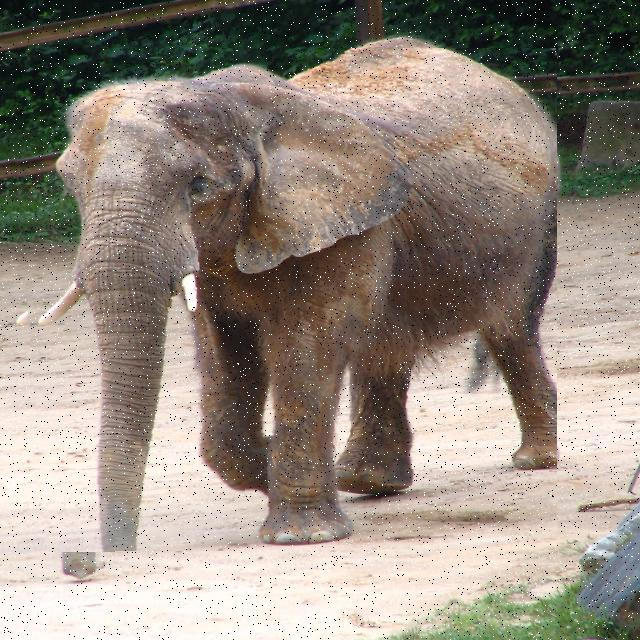elephant: (6, 48, 557, 552)
